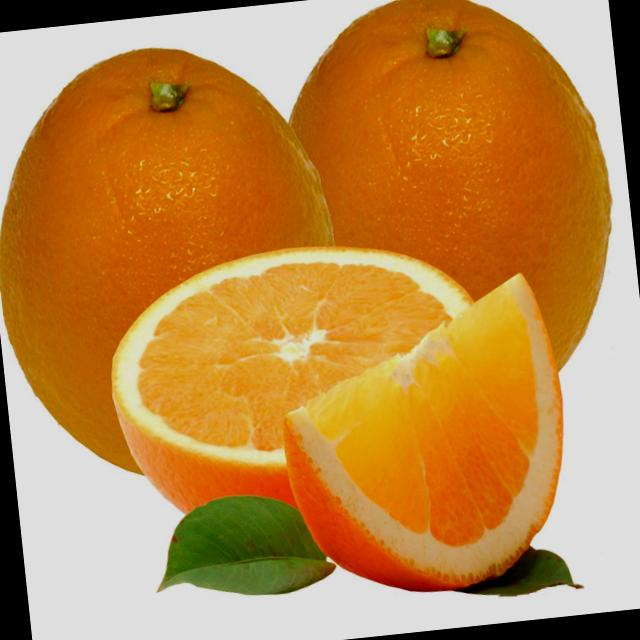orange: (0, 30, 384, 521), (254, 0, 640, 445)
